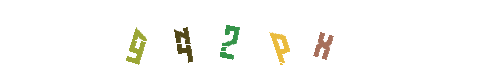2: (189, 0, 269, 80)
G: (144, 0, 224, 80)
P: (203, 0, 283, 80)
Q: (179, 0, 259, 80)
X: (238, 0, 318, 80)
